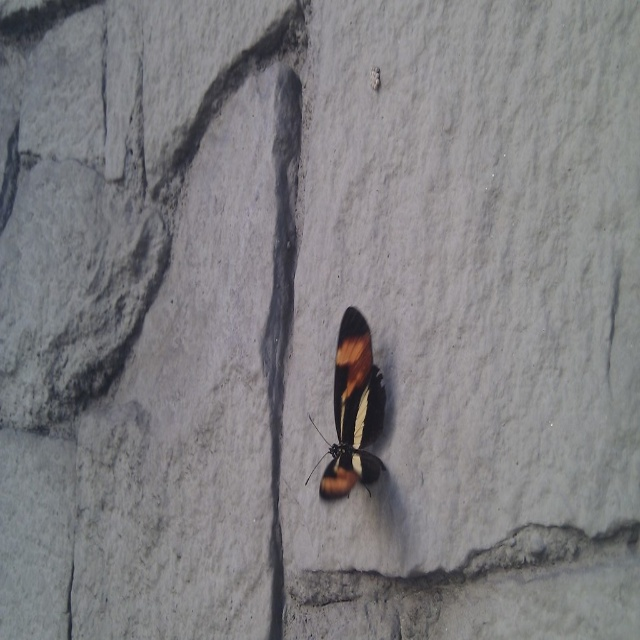Butterfly: (312, 301, 394, 505)
